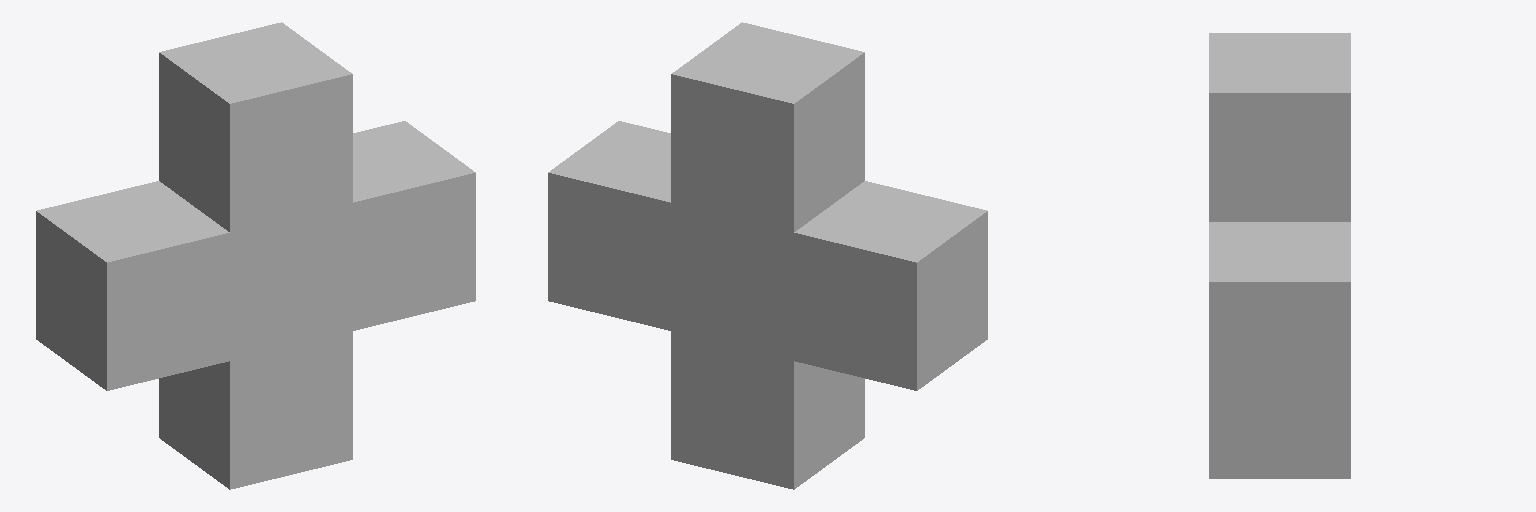
The model's file is health.obj.
3 renders of one model, left to right at view 1: azimuth 30°, elevation 25°; view 2: azimuth 150°, elevation 25°; view 3: azimuth 270°, elevation 25°, orthographic.
Visible parts, largest first — view 1: Cube; view 2: Cube; view 3: Cube.
Part boxes in pixels (bbox=[...]): Cube: bbox=[36, 22, 475, 489]; Cube: bbox=[548, 22, 987, 489]; Cube: bbox=[1209, 33, 1350, 478].
Bounding box in the file's own units: 6.01 × 6 × 2.